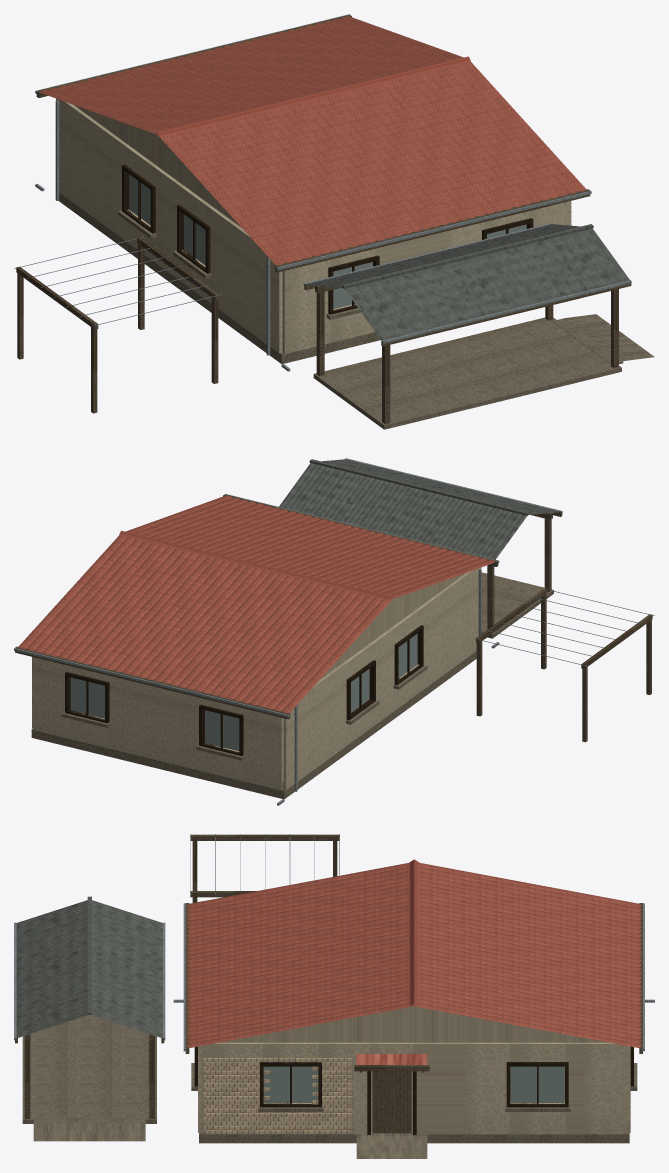
3 views of the same model, one above another, from view 1: azimuth 30°, elevation 25°; view 2: azimuth 150°, elevation 25°; view 3: azimuth 270°, elevation 25° (orthographic). The views are drawn at different scales.
Visible parts, largest first — view 1: H17_TELHAS, H17_GARAGEM_COBERTURA, H17_FUNDOS, H17_GARAGEM_BASE, H17_LATERAIS, H17_FUNDACAO, H17_CAIXILHOS, H17_OITOES, H17_PERGOLA_POSTES, H17_BEIRAIS, H17_GARAGEM_PILARES, H17_VIDROS_RECUADOS (+11 smaller); view 2: H17_TELHAS, H17_LATERAIS, H17_FUNDOS, H17_GARAGEM_COBERTURA, H17_FUNDACAO, H17_VIDROS_RECUADOS, H17_CAIXILHOS, H17_OITOES, H17_GARAGEM_BASE, H17_PERGOLA_POSTES, H17_BEIRAIS, H17_CUMEEIRA (+7 smaller); view 3: H17_TELHAS, H17_FACHADA, H17_GARAGEM_COBERTURA, H17_GARAGEM_BASE, H17_TIJOLOS_APARENTES, H17_OITOES, H17_FUNDACAO, H17_VIDROS_RECUADOS, H17_PORTA_FOLHA, H17_GARAGEM_RAMPA, H17_CAIXILHOS, H17_RAMPA (+14 smaller).
Part boxes in pixels (x1,y1,x2,y2): H17_TELHAS: (40, 16, 586, 265); H17_GARAGEM_COBERTURA: (305, 224, 629, 340); H17_FUNDOS: (56, 98, 282, 353); H17_GARAGEM_BASE: (313, 317, 621, 429); H17_LATERAIS: (282, 201, 569, 353); H17_FUNDACAO: (58, 193, 380, 364); H17_CAIXILHOS: (122, 164, 533, 314); H17_OITOES: (74, 105, 240, 226); H17_PERGOLA_POSTES: (17, 239, 218, 413); H17_BEIRAIS: (36, 14, 590, 272); H17_GARAGEM_PILARES: (316, 287, 618, 424); H17_VIDROS_RECUADOS: (129, 174, 526, 308); H17_TELHAS: (18, 495, 495, 712); H17_LATERAIS: (33, 657, 283, 790); H17_FUNDOS: (283, 567, 481, 789); H17_GARAGEM_COBERTURA: (279, 459, 560, 559); H17_FUNDACAO: (31, 651, 476, 799); H17_VIDROS_RECUADOS: (70, 633, 417, 751); H17_CAIXILHOS: (65, 625, 423, 756); H17_OITOES: (320, 573, 465, 679); H17_GARAGEM_BASE: (481, 572, 553, 638); H17_PERGOLA_POSTES: (476, 590, 651, 742); H17_BEIRAIS: (15, 494, 498, 719); H17_CUMEEIRA: (119, 530, 393, 600); H17_TELHAS: (187, 863, 641, 1047); H17_FACHADA: (201, 1042, 626, 1134); H17_GARAGEM_COBERTURA: (16, 900, 162, 1038); H17_GARAGEM_BASE: (22, 1015, 156, 1123); H17_TIJOLOS_APARENTES: (203, 1058, 352, 1133); H17_OITOES: (220, 1006, 608, 1042); H17_FUNDACAO: (199, 1067, 629, 1143); H17_VIDROS_RECUADOS: (264, 1066, 564, 1102); H17_PORTA_FOLHA: (372, 1071, 411, 1133); H17_GARAGEM_RAMPA: (33, 1123, 145, 1141); H17_CAIXILHOS: (194, 1046, 633, 1107); H17_RAMPA: (356, 1136, 427, 1158).
Size of the model in its own units: 15.27 by 4.28 by 17.18.
10 materials, 9 textured.
